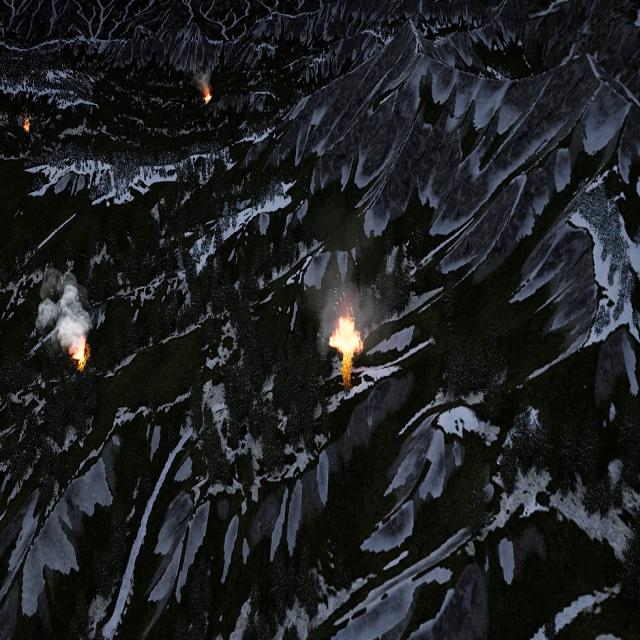fire: (331, 317, 363, 360), (71, 339, 87, 365), (204, 90, 213, 103), (24, 118, 30, 131)
smoke: (36, 271, 92, 353), (194, 63, 214, 89)
